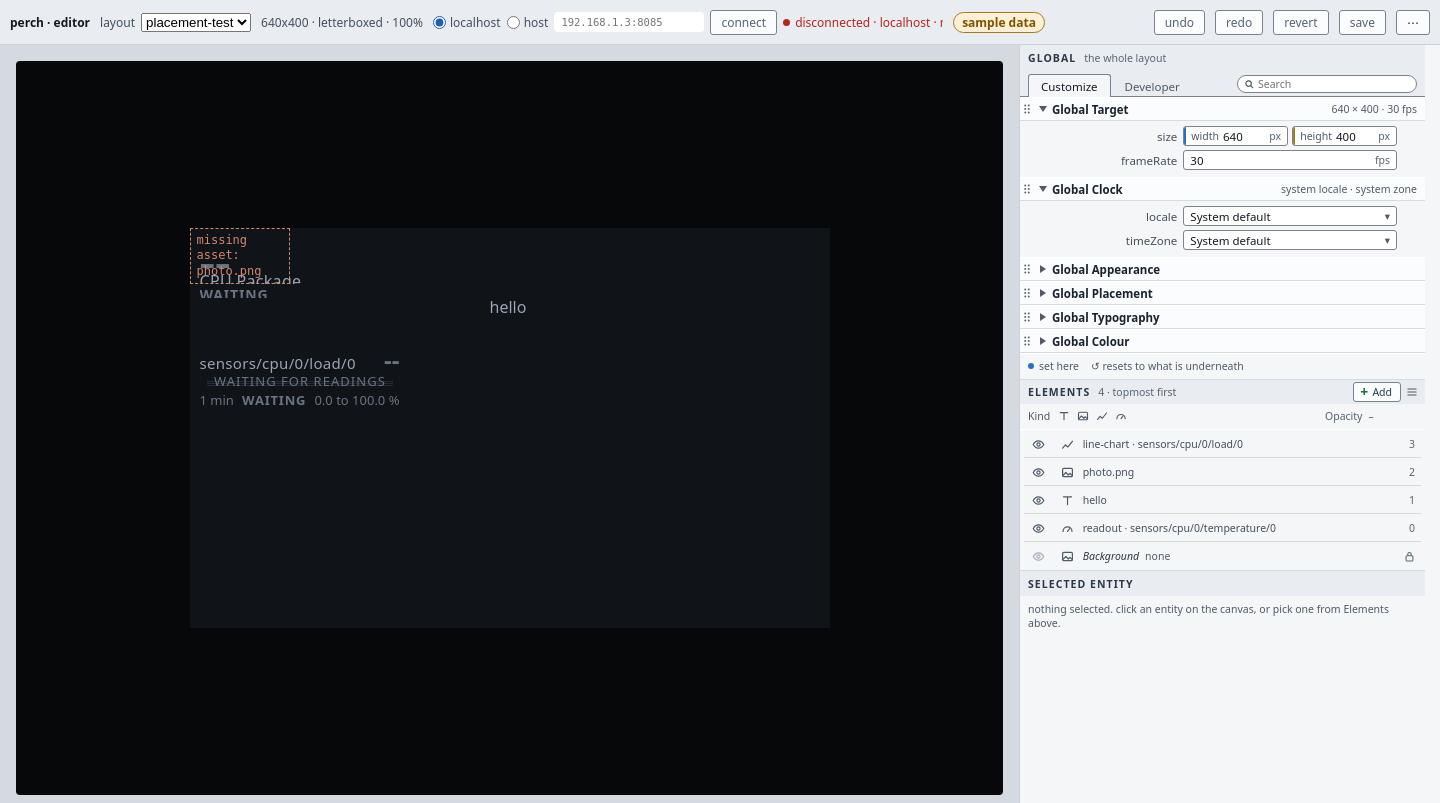
Test case: the resize anchor › resizes about the anchor, which stays put
Click the button "hello 1" at (1067, 500), box [1052, 486, 1421, 514]
(page scrolled)
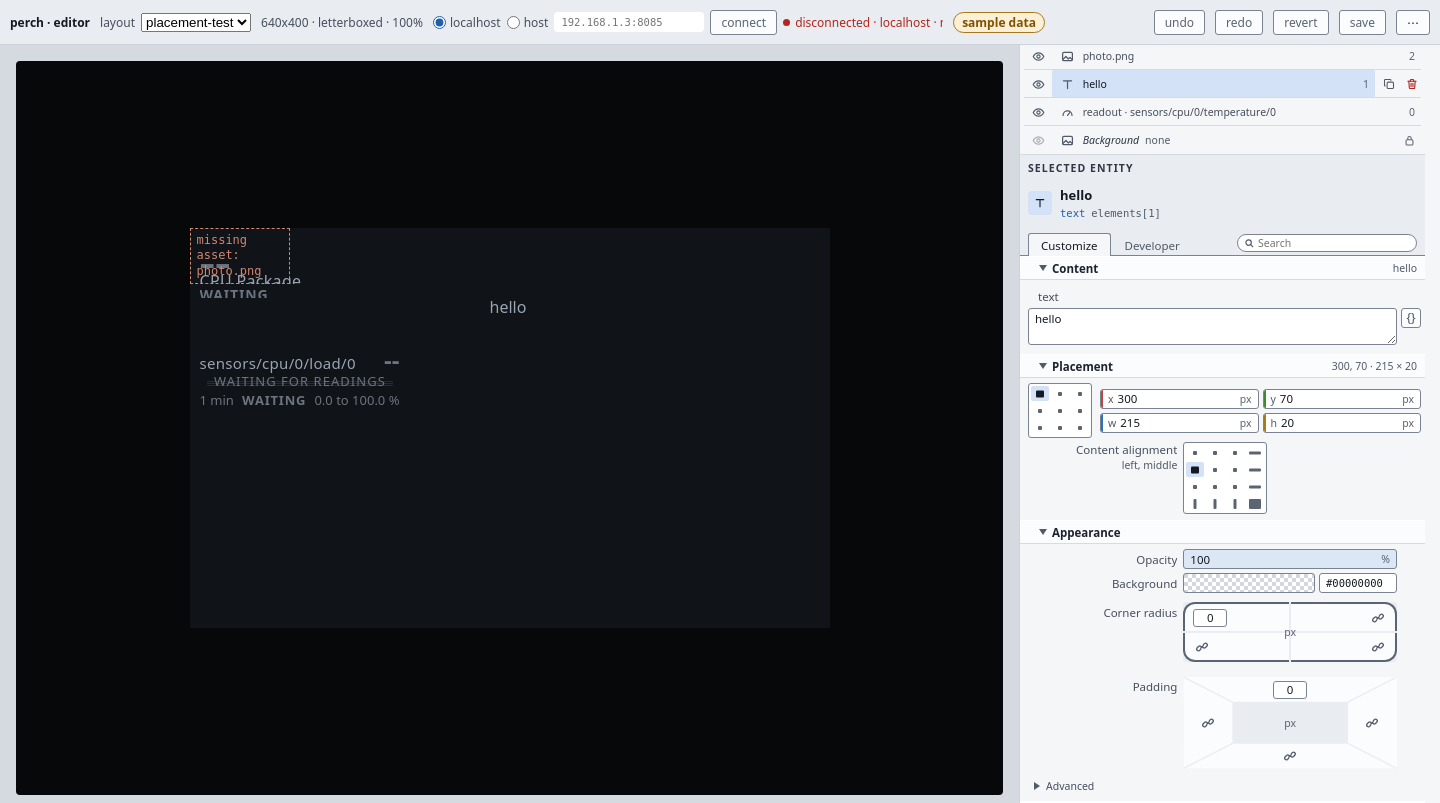
Click the 1st radio button named "bottom right" at (1080, 428), box [1071, 420, 1089, 435]
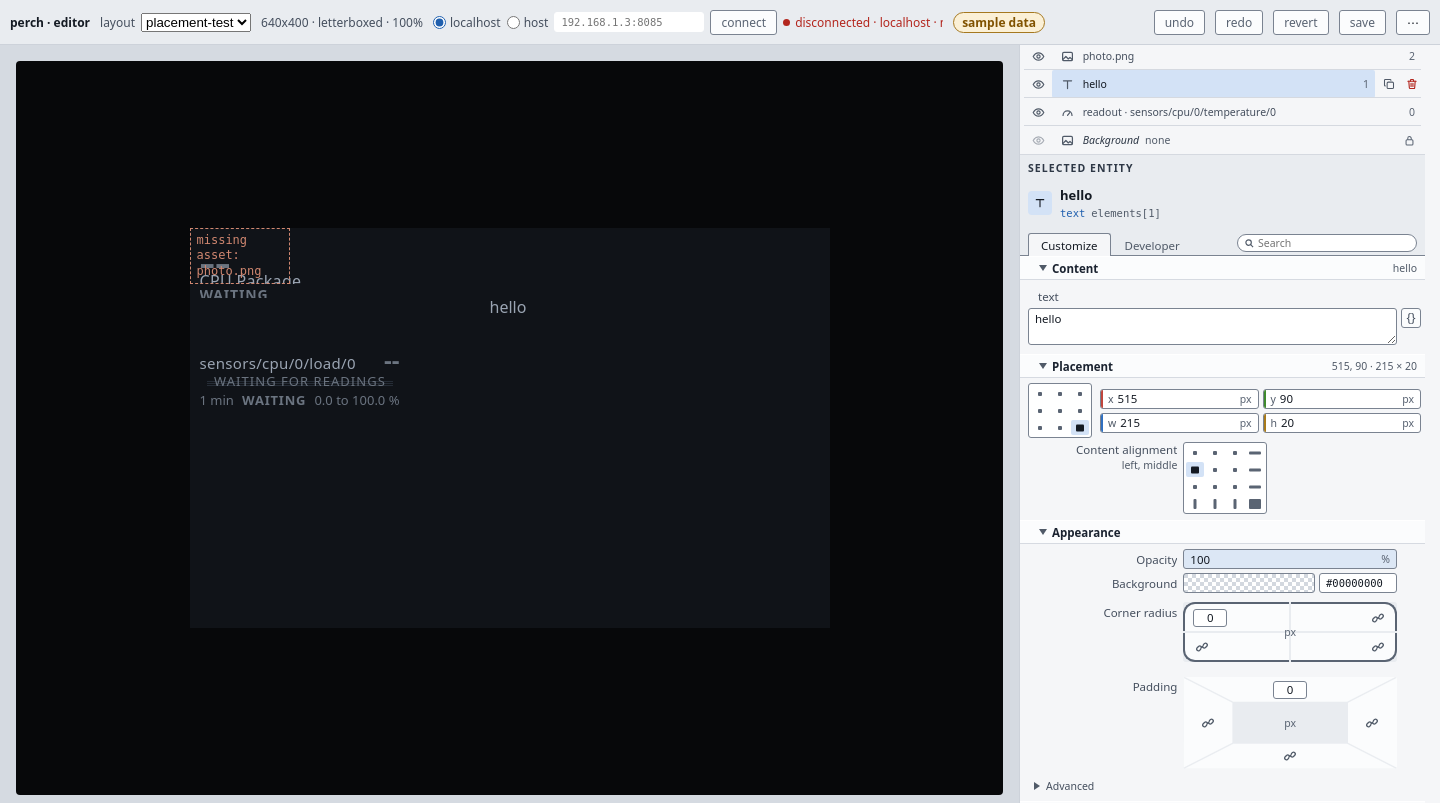
Check: the number field labelled "x" holds "515", box [1116, 390, 1240, 408]
Replace the text in the number field labelled "w" with "115" at (1179, 423), box [1118, 414, 1240, 432]
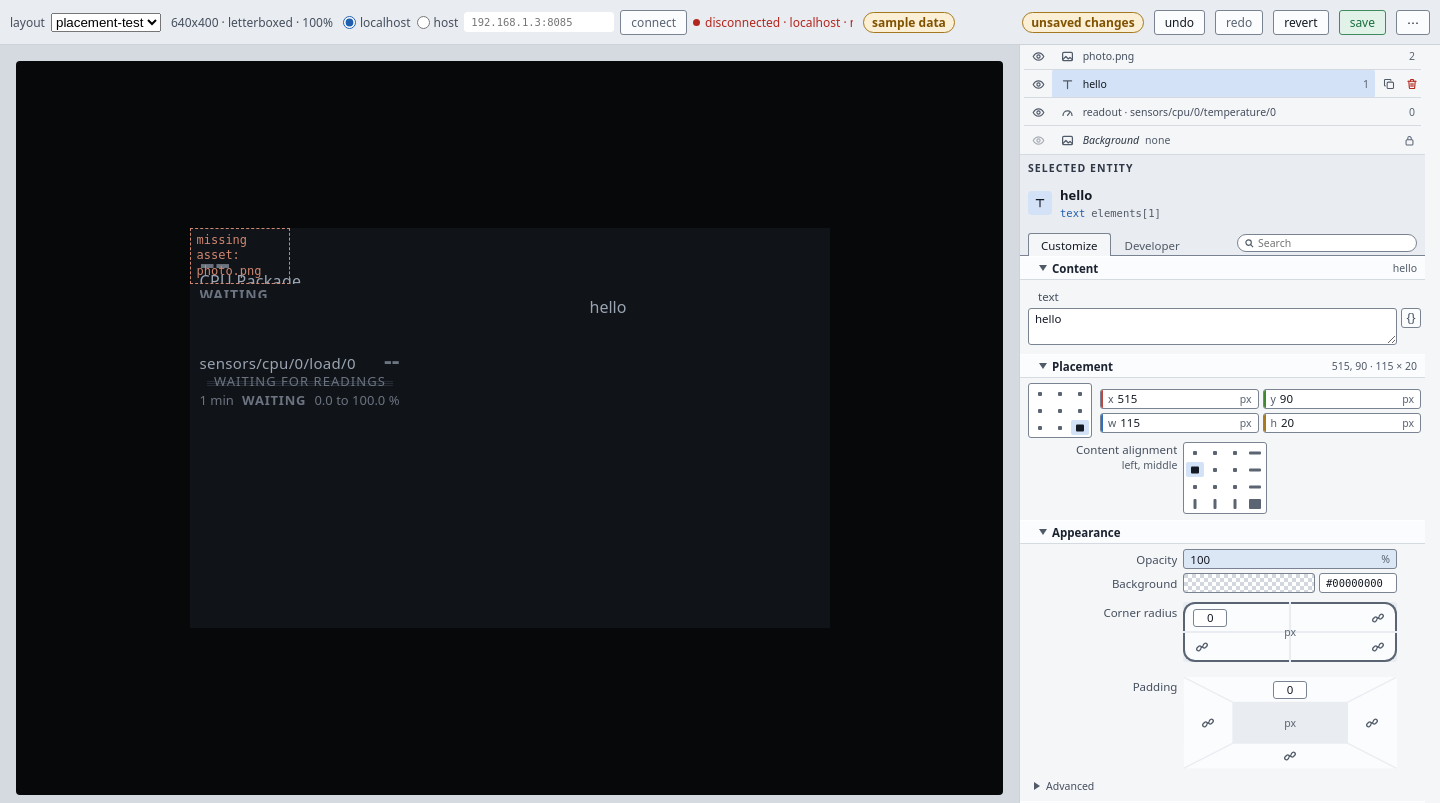
Check: the number field labelled "x" holds "515", box [1116, 390, 1240, 408]
Click the 1st radio button named "top left" at (1040, 394), box [1031, 386, 1049, 401]
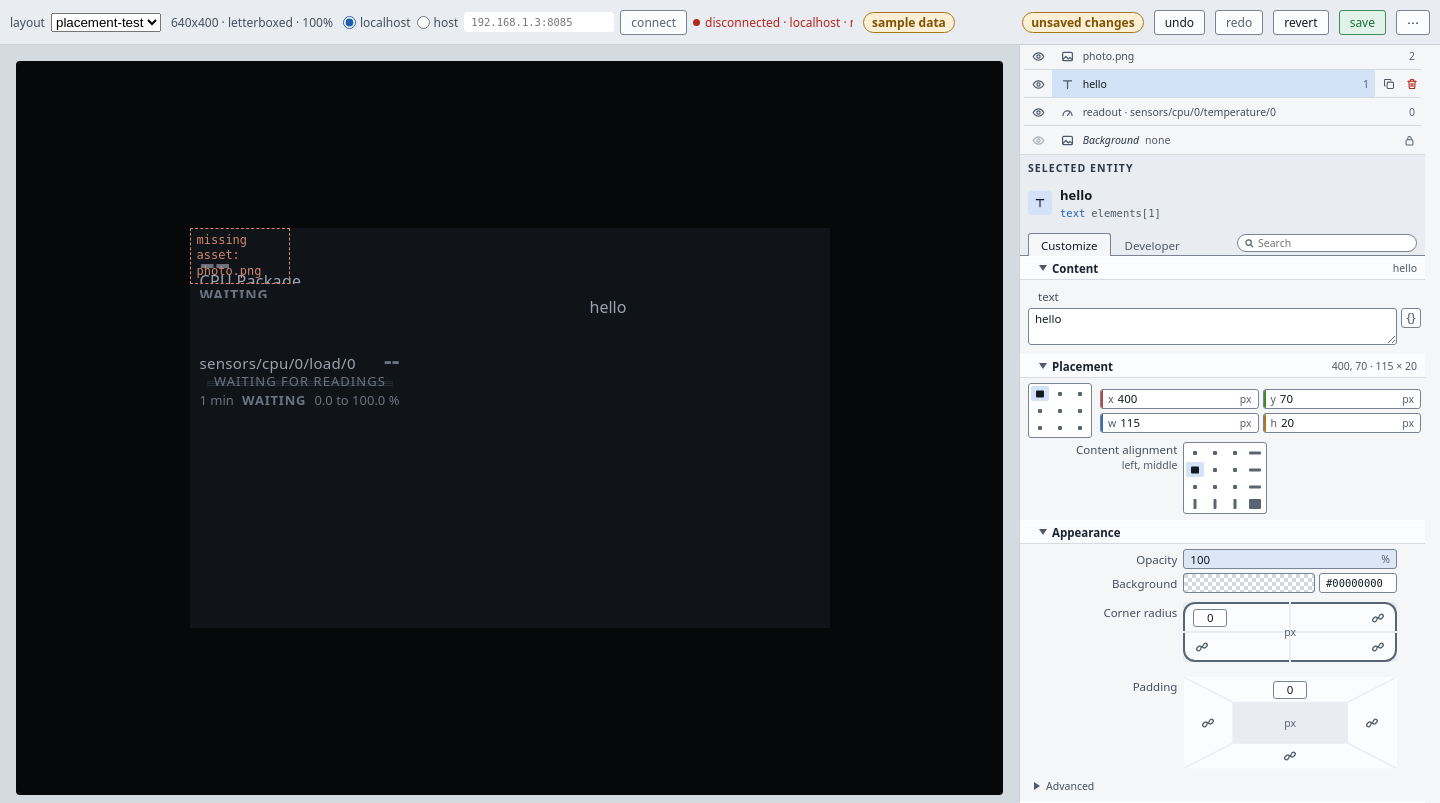
Check: the number field labelled "x" holds "400", box [1116, 390, 1240, 408]
